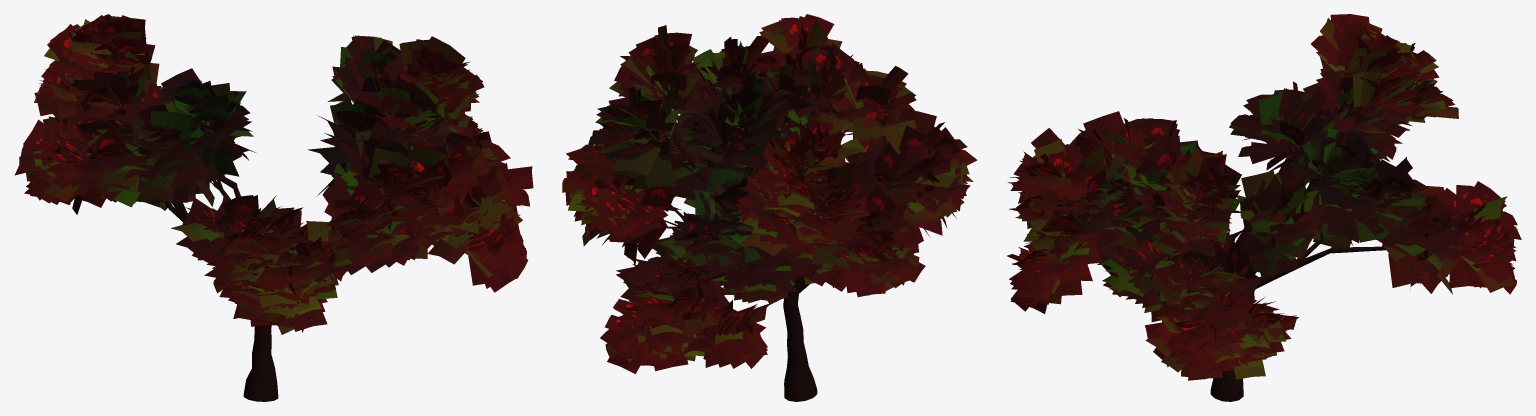
File: veg_gul1.glb
The picture shows the model from 3 angles, left to right: view 1: azimuth 30°, elevation 25°; view 2: azimuth 150°, elevation 25°; view 3: azimuth 270°, elevation 25°; orthographic projection. The views are drawn at different scales.
Visible parts, largest first — view 1: gulmohar_1; view 2: gulmohar_1; view 3: gulmohar_1.
Part boxes in pixels (left/top/right/bottom): gulmohar_1: left=14, top=14, right=533, bottom=401; gulmohar_1: left=562, top=14, right=977, bottom=401; gulmohar_1: left=1007, top=14, right=1521, bottom=401.
Size of the model in its own units: 12.39 by 9.5 by 13.31.
Materials: 2 (2 with a texture image).
